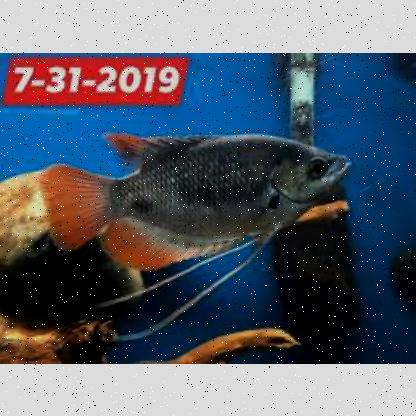gurame: (50, 132, 350, 270)
